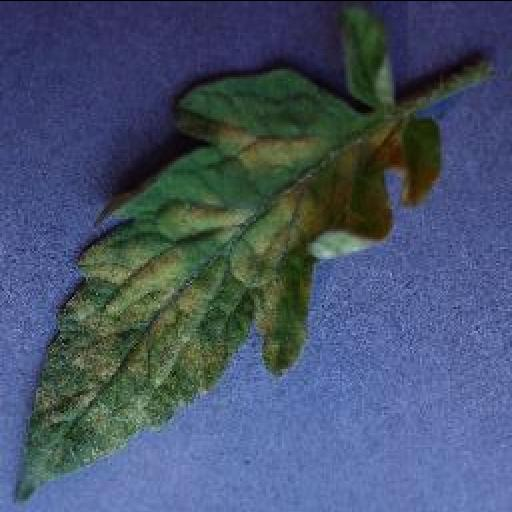disease_tomato: (10, 4, 444, 500)
